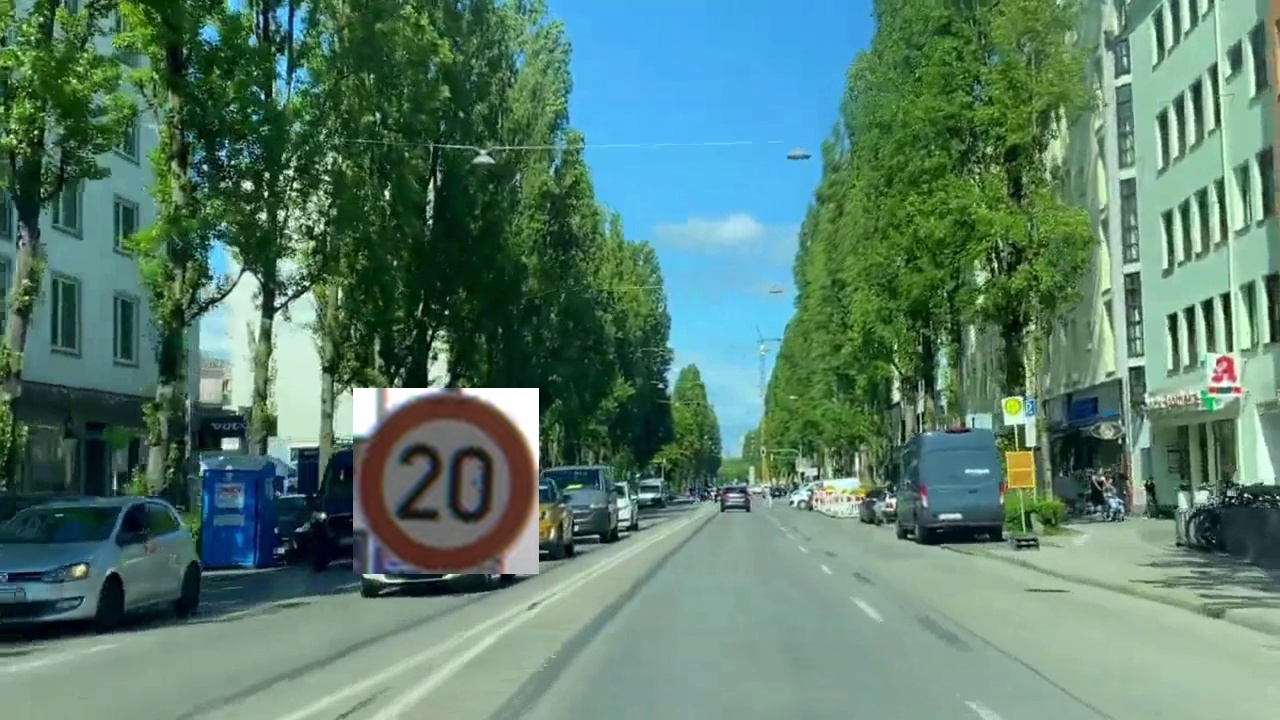Speed 20: (353, 388, 539, 574)
